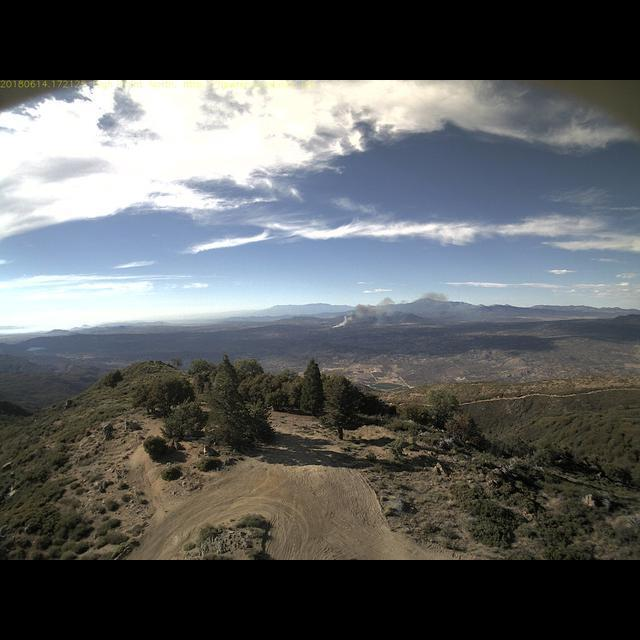Smoke: (331, 286, 453, 333)
